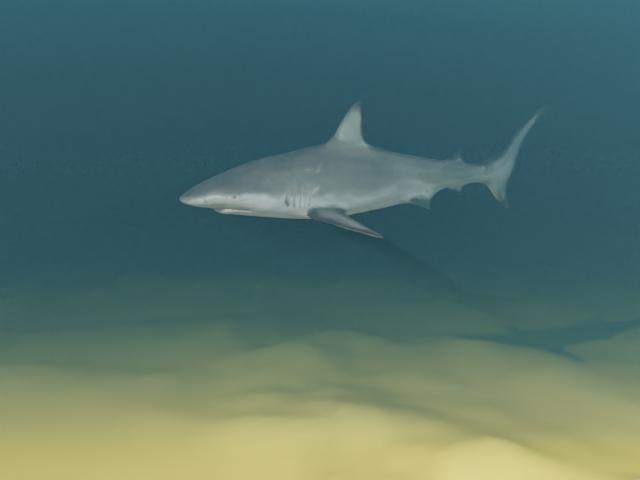Carribean Shark.001: (179, 101, 548, 238)
